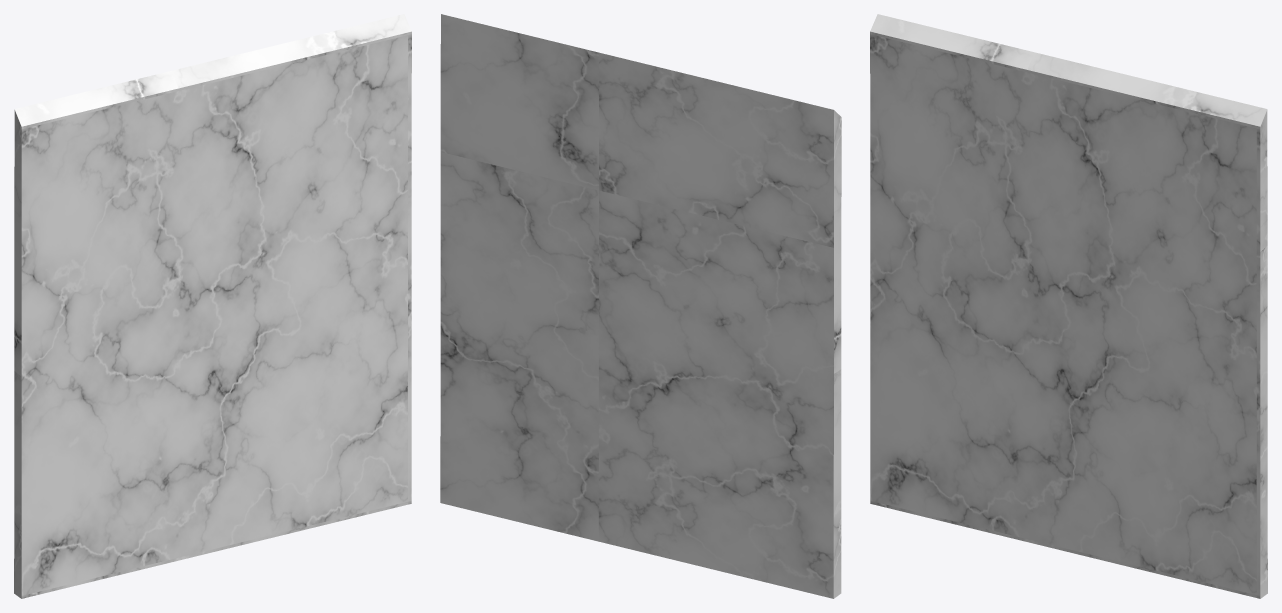
File: Wall Tile.fbx
3 views of the same model, side by side, from view 1: azimuth 30°, elevation 25°; view 2: azimuth 150°, elevation 25°; view 3: azimuth 330°, elevation 25° (orthographic).
Visible parts, largest first — view 1: Plane.010; view 2: Plane.010; view 3: Plane.010.
Part boxes in pixels (<box>): Plane.010: <box>14,14,411,598</box>; Plane.010: <box>440,14,841,598</box>; Plane.010: <box>870,14,1267,598</box>.
Size of the model in its own units: 162 by 193 by 5.46.
